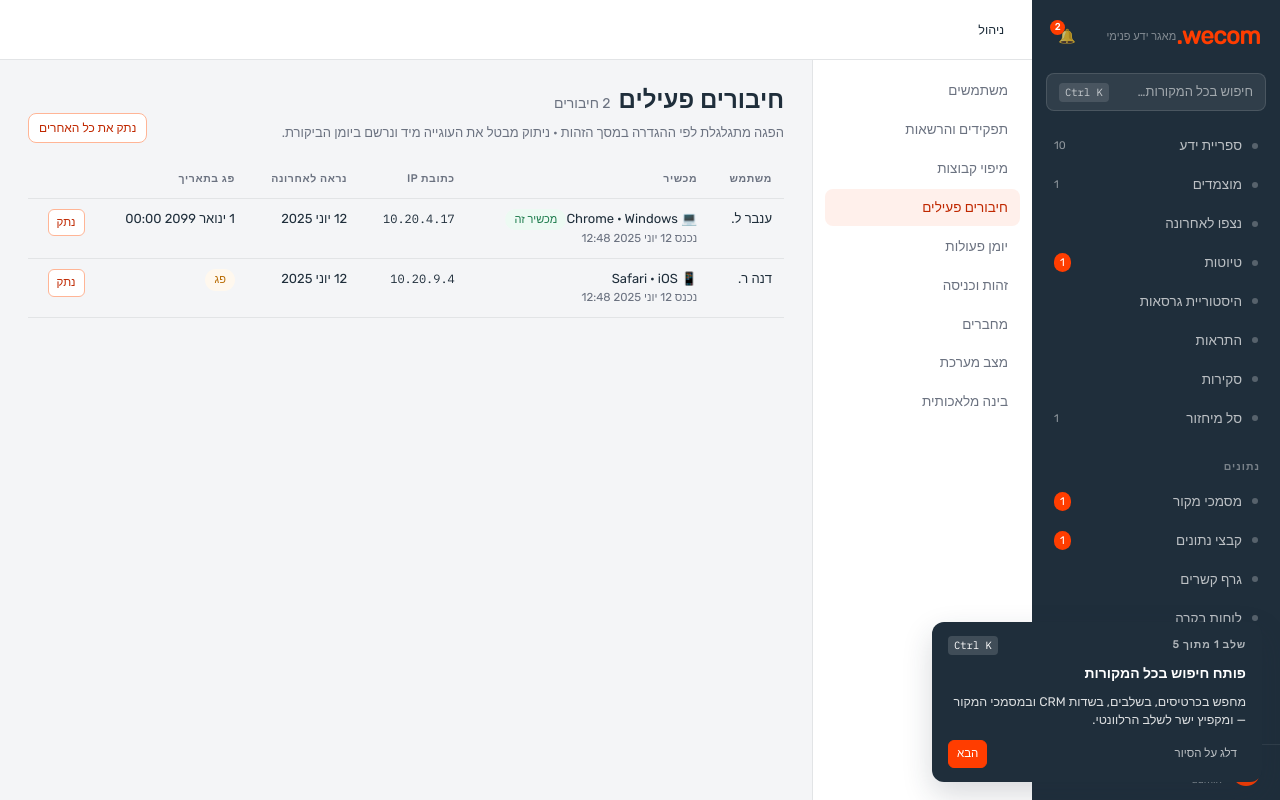
admin · sessions › marks this browser as "מכשיר זה" and warns before revoking it (3e)
Expected: the text "מכשיר זה" is shown, [506,209,566,230]
Click the button with aria-label "נתק ענבר ל. (מכשיר זה)".
click(66, 222)  # box [48,209,85,236]
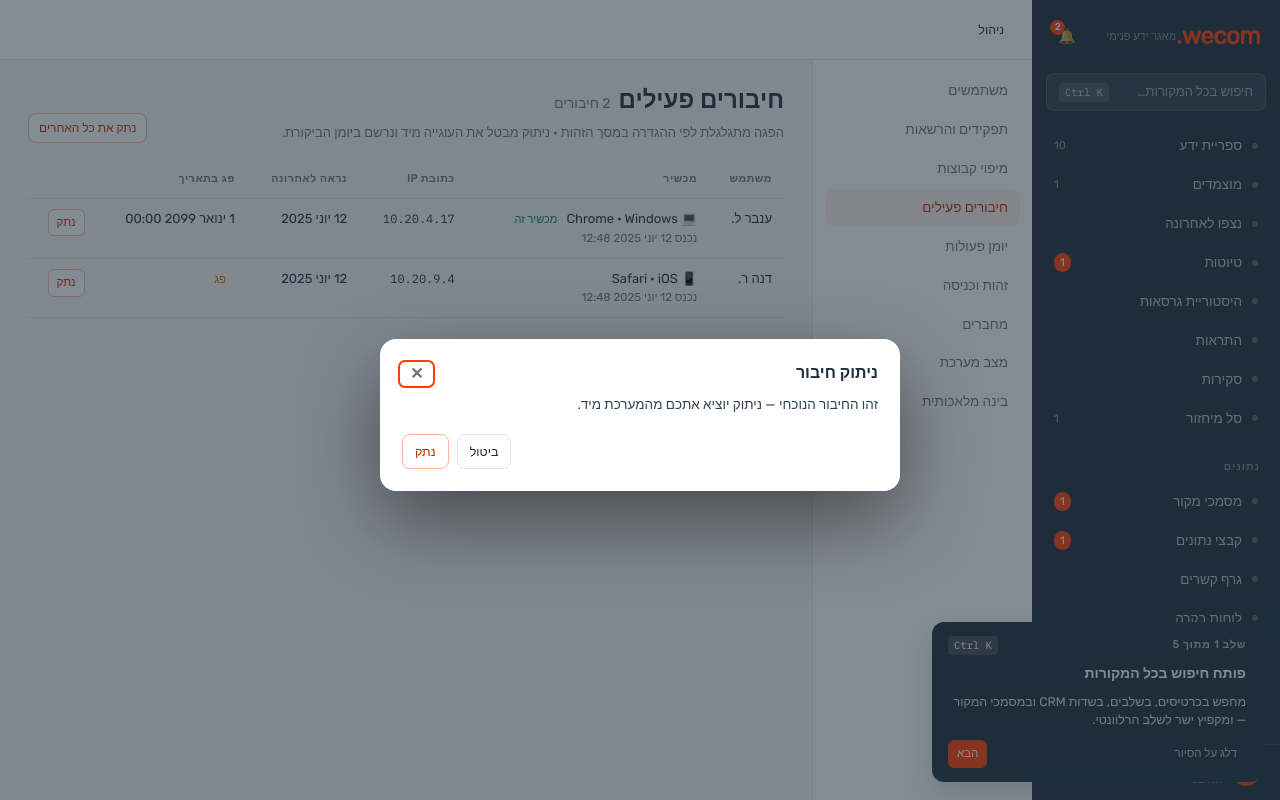
Expected: the text "זהו החיבור הנוכחי — ניתוק יוציא אתכם מהמערכת מיד." is shown, [577,396,878,412]
